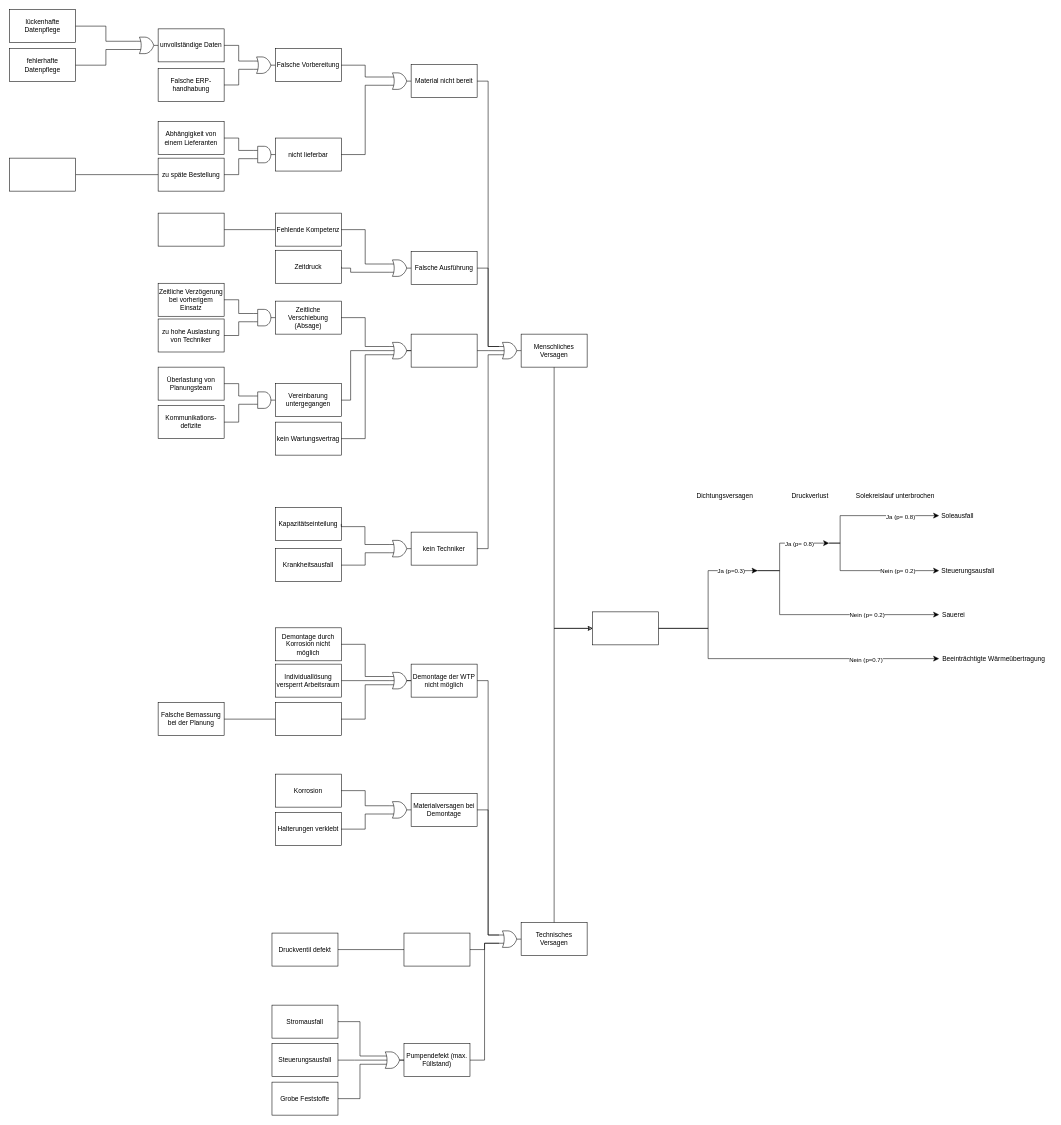
The diagram is 1061 pixels wide and 1125 high, and some of its shapes have lost their labels. The shapes that lost their labels are listed below. From the top down, each one's box as (x1, y1, x2, y2) in pixels, then its label:
(9, 158, 76, 191): Kurzfristige Planung
(158, 213, 224, 246): Fehlende Ausbildung
(411, 334, 477, 367): kein Termin
(592, 611, 659, 645): Wartungsausfall
(275, 702, 341, 736): Unzureichender Platz
(403, 933, 470, 966): Unterdruck (Deckel kann nicht geöffnet werden)
